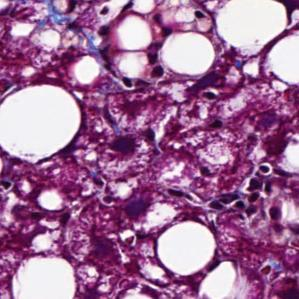inflammation: (205, 162, 276, 219), (67, 23, 114, 65), (179, 66, 226, 104), (0, 175, 42, 217), (146, 46, 164, 81)
